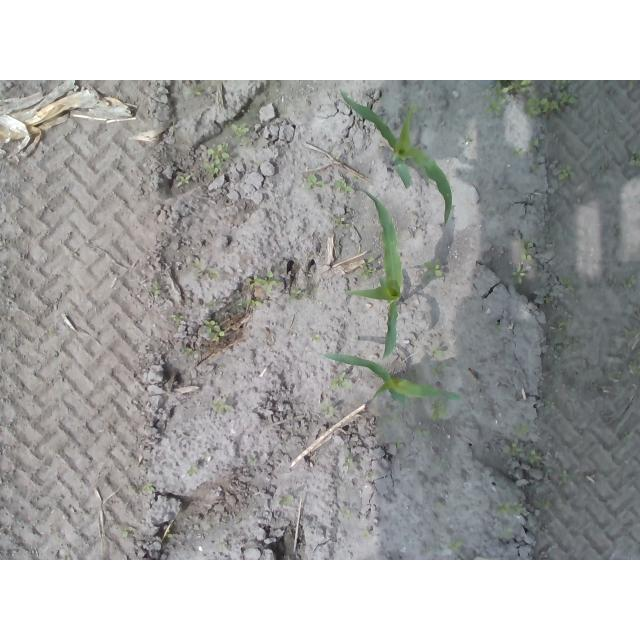Maize: (339, 87, 453, 225), (345, 186, 407, 358), (319, 354, 458, 411)
Weeds: (551, 316, 585, 352), (526, 95, 579, 118), (302, 175, 354, 194), (204, 141, 231, 175), (486, 80, 511, 116), (512, 138, 541, 160), (432, 347, 453, 377), (253, 271, 280, 294), (203, 320, 225, 343), (431, 397, 450, 421), (226, 120, 251, 136), (558, 275, 576, 297), (358, 257, 375, 279), (519, 240, 535, 263), (498, 501, 527, 513), (211, 400, 235, 414), (422, 260, 443, 276), (511, 81, 533, 96), (629, 349, 640, 377), (558, 163, 575, 181), (513, 264, 527, 285), (512, 420, 528, 437), (333, 375, 351, 390), (529, 447, 544, 465), (505, 441, 522, 456), (552, 80, 569, 94), (275, 496, 293, 509), (447, 539, 465, 552), (537, 497, 552, 512), (319, 403, 335, 417), (623, 430, 638, 444), (414, 426, 430, 439), (192, 257, 205, 272), (148, 283, 161, 297), (609, 370, 624, 382), (498, 528, 513, 540), (625, 273, 637, 288), (623, 326, 640, 336), (177, 174, 191, 186), (629, 151, 640, 165), (559, 471, 574, 481), (543, 399, 558, 409), (290, 286, 302, 298), (168, 314, 183, 323), (191, 87, 202, 98), (119, 527, 129, 538), (247, 455, 258, 465), (143, 485, 155, 494), (311, 333, 321, 343), (543, 296, 554, 305), (250, 298, 262, 306), (394, 442, 401, 449)
